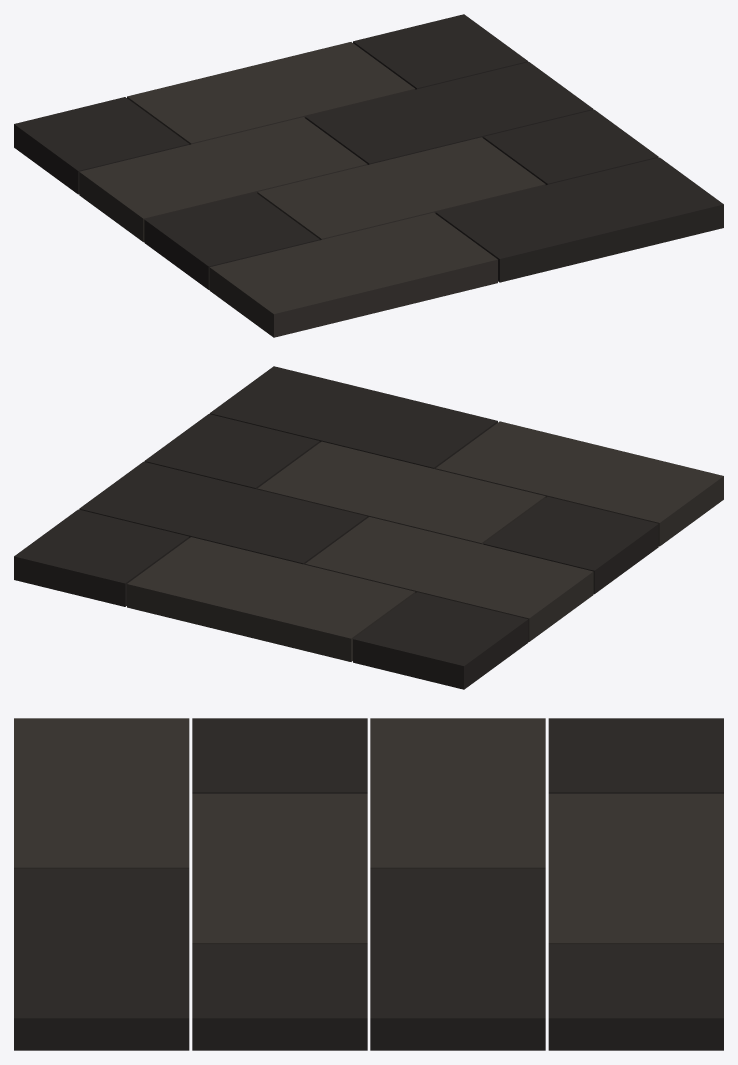
Rendered from floorParquetEbony.glb.
3 renders of one model, top to bottom at view 1: azimuth 30°, elevation 25°; view 2: azimuth 150°, elevation 25°; view 3: azimuth 270°, elevation 25°, orthographic. The views are drawn at different scales.
Parts seen in each view (by area): view 1: floorParquetEbony; view 2: floorParquetEbony; view 3: floorParquetEbony.
Part boxes in pixels (bbox=[...]): floorParquetEbony: bbox=[14, 14, 723, 337]; floorParquetEbony: bbox=[14, 366, 723, 689]; floorParquetEbony: bbox=[14, 718, 723, 1050].
Bounding box in the file's own units: 1 × 0.05 × 1.
1 material, 1 textured.
